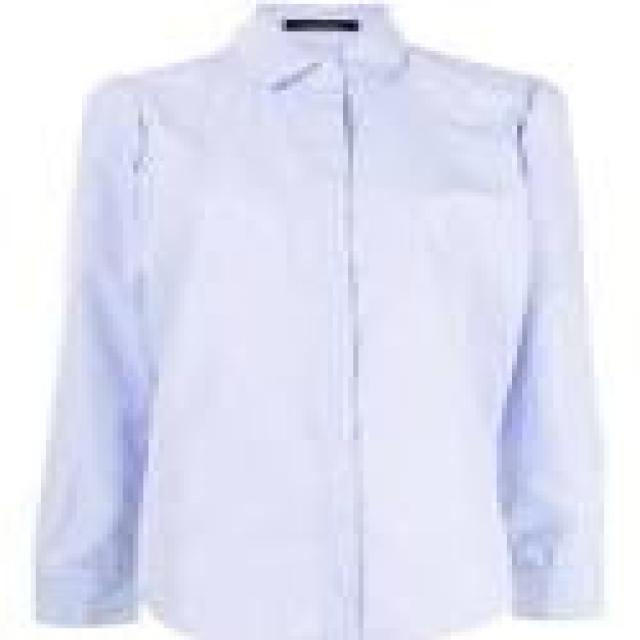plaid: (5, 23, 640, 640)
